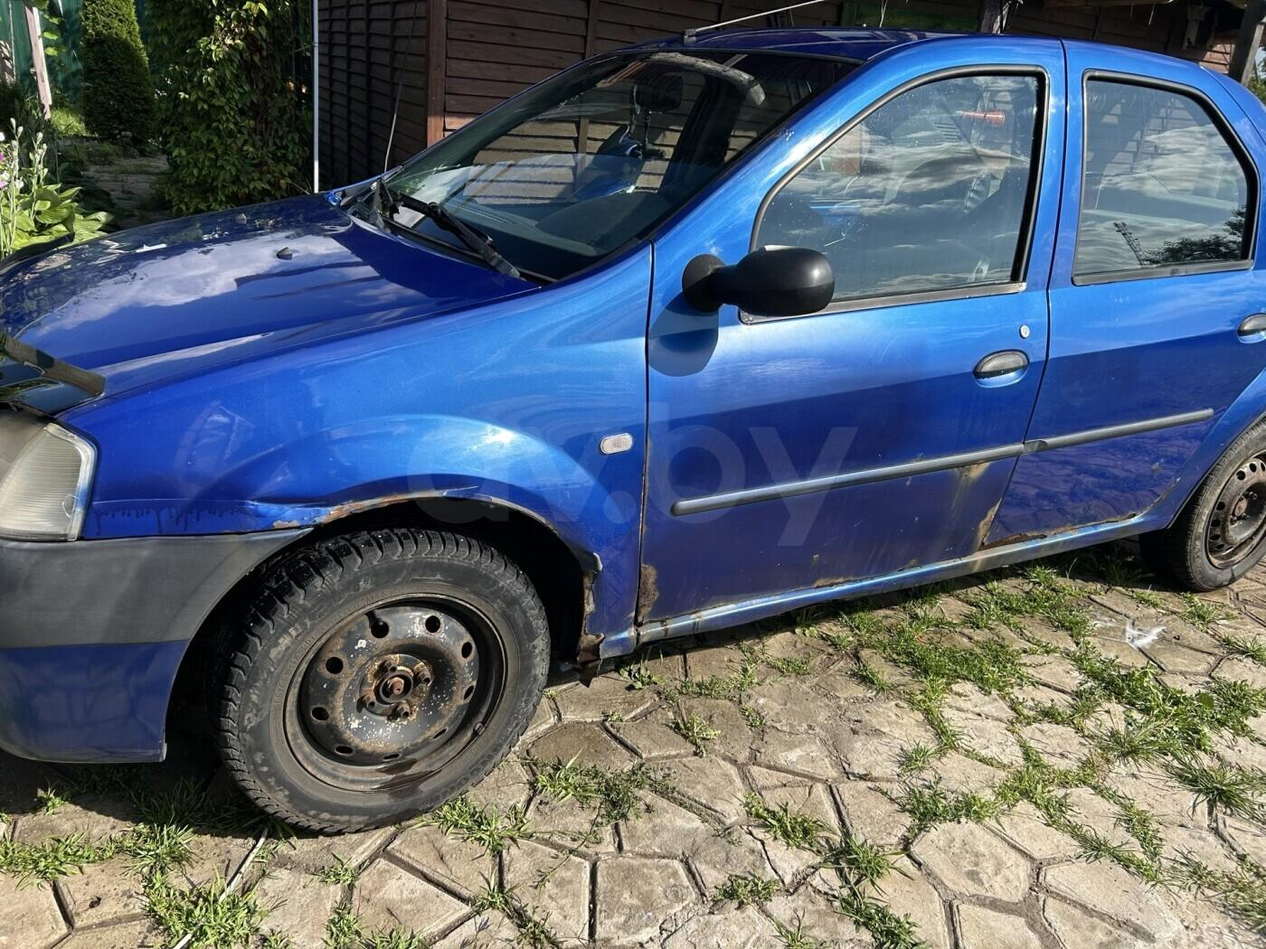Logan_2004-2009: (0, 23, 1266, 839)
